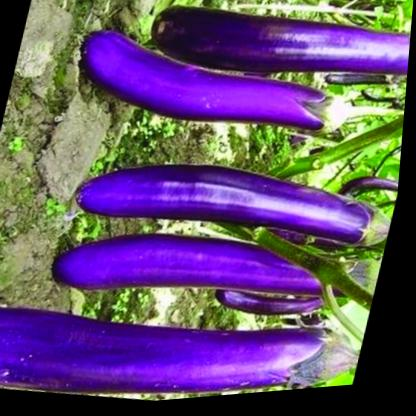--: (51, 5, 414, 169), (0, 262, 377, 416), (39, 209, 391, 347), (61, 142, 405, 273), (137, 0, 415, 106)
